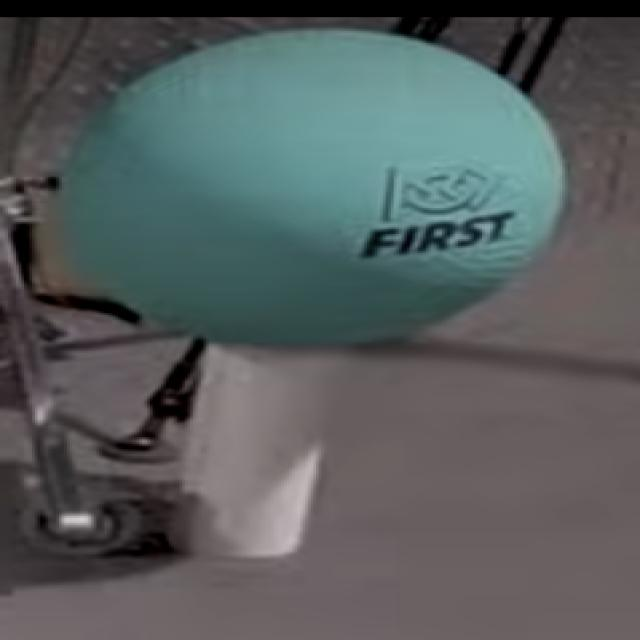Algae: (55, 30, 565, 348)
Coral: (166, 348, 343, 558)
